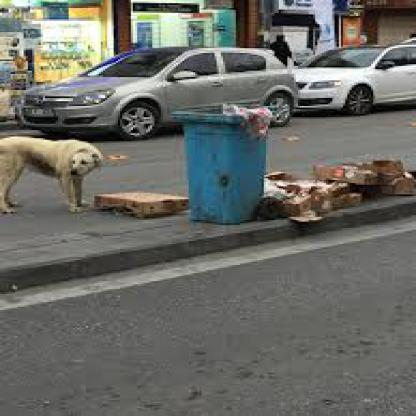Garbage: (266, 144, 414, 241), (84, 176, 186, 228), (272, 170, 352, 222), (314, 154, 410, 192), (230, 103, 274, 138), (397, 158, 414, 210)
